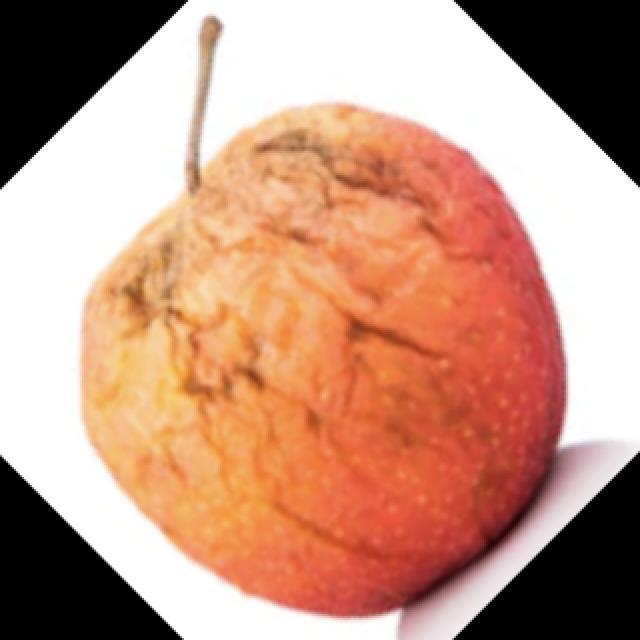Rotten: (87, 103, 568, 602)
